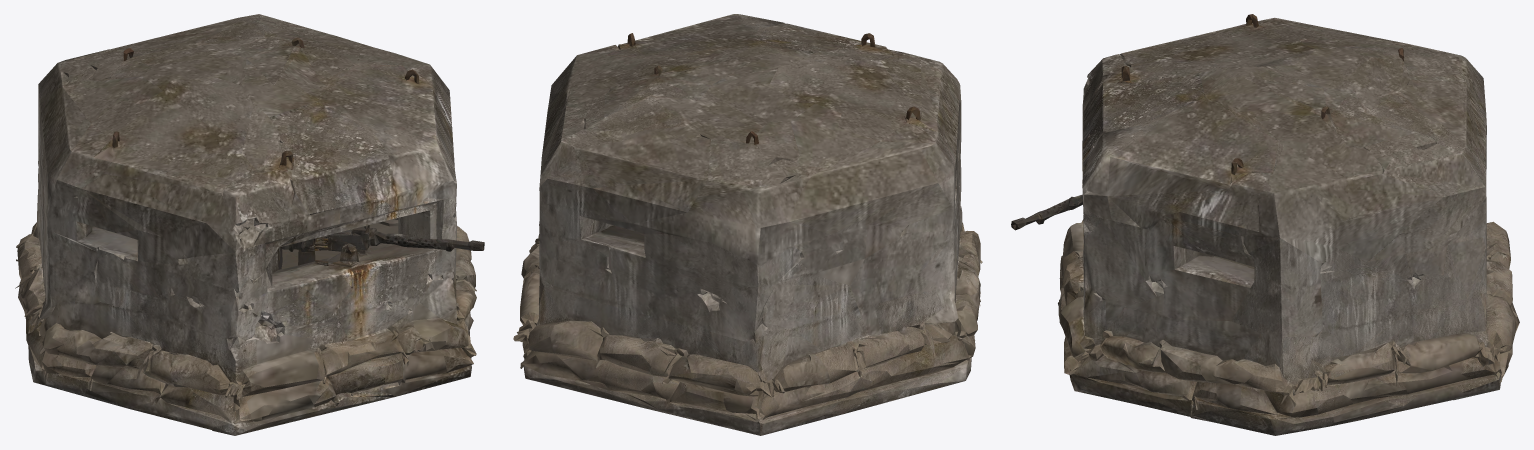
File: bunker.glb
3 renders of one model, left to right at view 1: azimuth 30°, elevation 25°; view 2: azimuth 150°, elevation 25°; view 3: azimuth 270°, elevation 25°, orthographic.
Visible parts, largest first — view 1: Mesh_0; view 2: Mesh_0; view 3: Mesh_0.
Boxes of the visible parts, left/top/right/bottom form: Mesh_0: left=15, top=14, right=484, bottom=435; Mesh_0: left=513, top=14, right=982, bottom=435; Mesh_0: left=1011, top=14, right=1519, bottom=435.
Size of the model in its own units: 1.85 by 1.07 by 1.89.
Materials: 1 (1 with a texture image).
